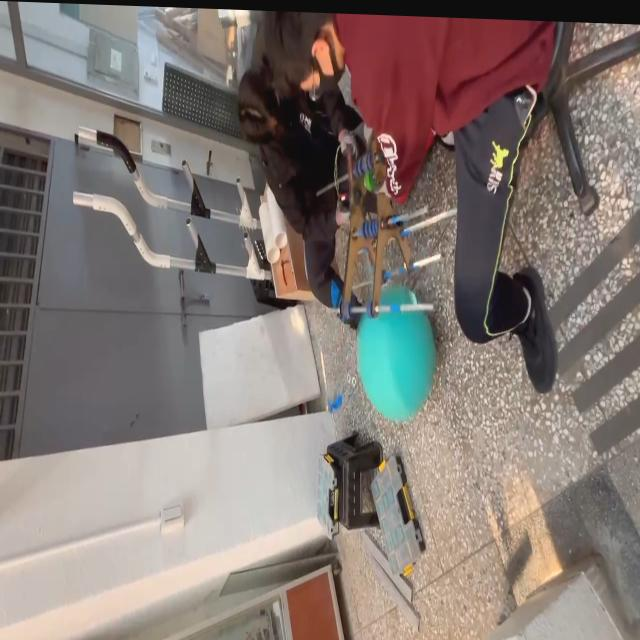ALGAE: (354, 282, 438, 425)
